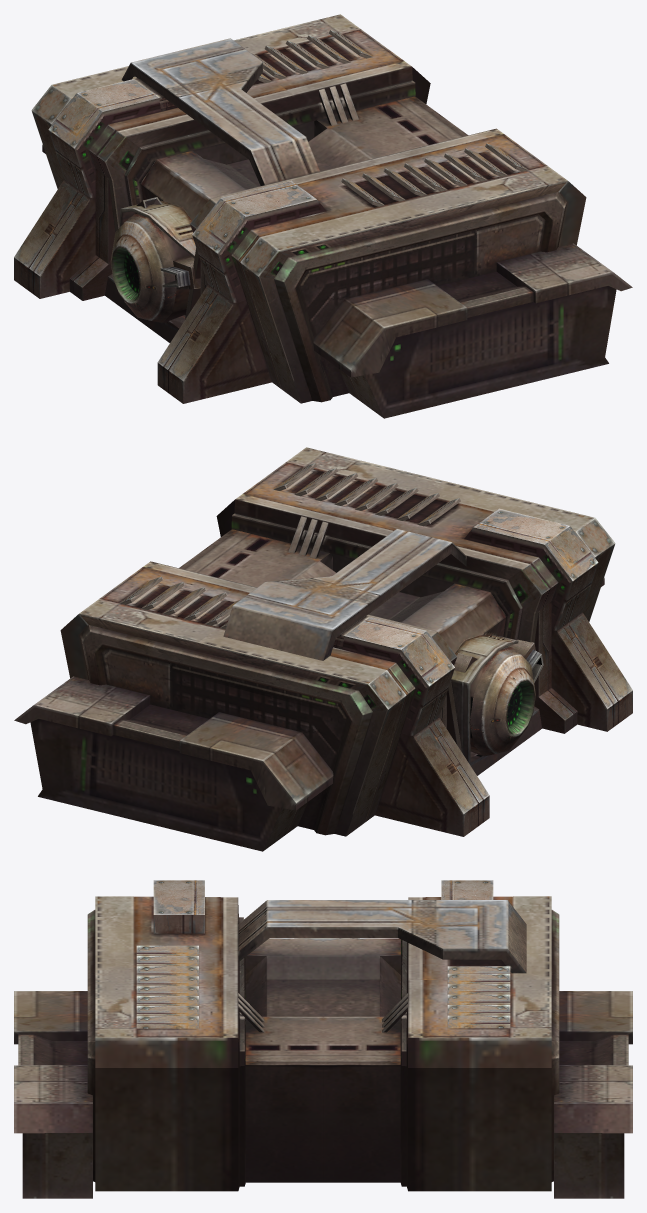
File: yw_leinabao_zhujian01.FBX
3 views of the same model, one above another, from view 1: azimuth 30°, elevation 25°; view 2: azimuth 150°, elevation 25°; view 3: azimuth 270°, elevation 25° (orthographic).
Visible parts, largest first — view 1: yw_leinabao_zhujian01; view 2: yw_leinabao_zhujian01; view 3: yw_leinabao_zhujian01.
Part boxes in pixels (box(x1,y1,x2,y2)): yw_leinabao_zhujian01: box(14, 14, 632, 418); yw_leinabao_zhujian01: box(14, 447, 632, 851); yw_leinabao_zhujian01: box(14, 880, 632, 1198).
Size of the model in its own units: 3024 by 1384 by 4248.
